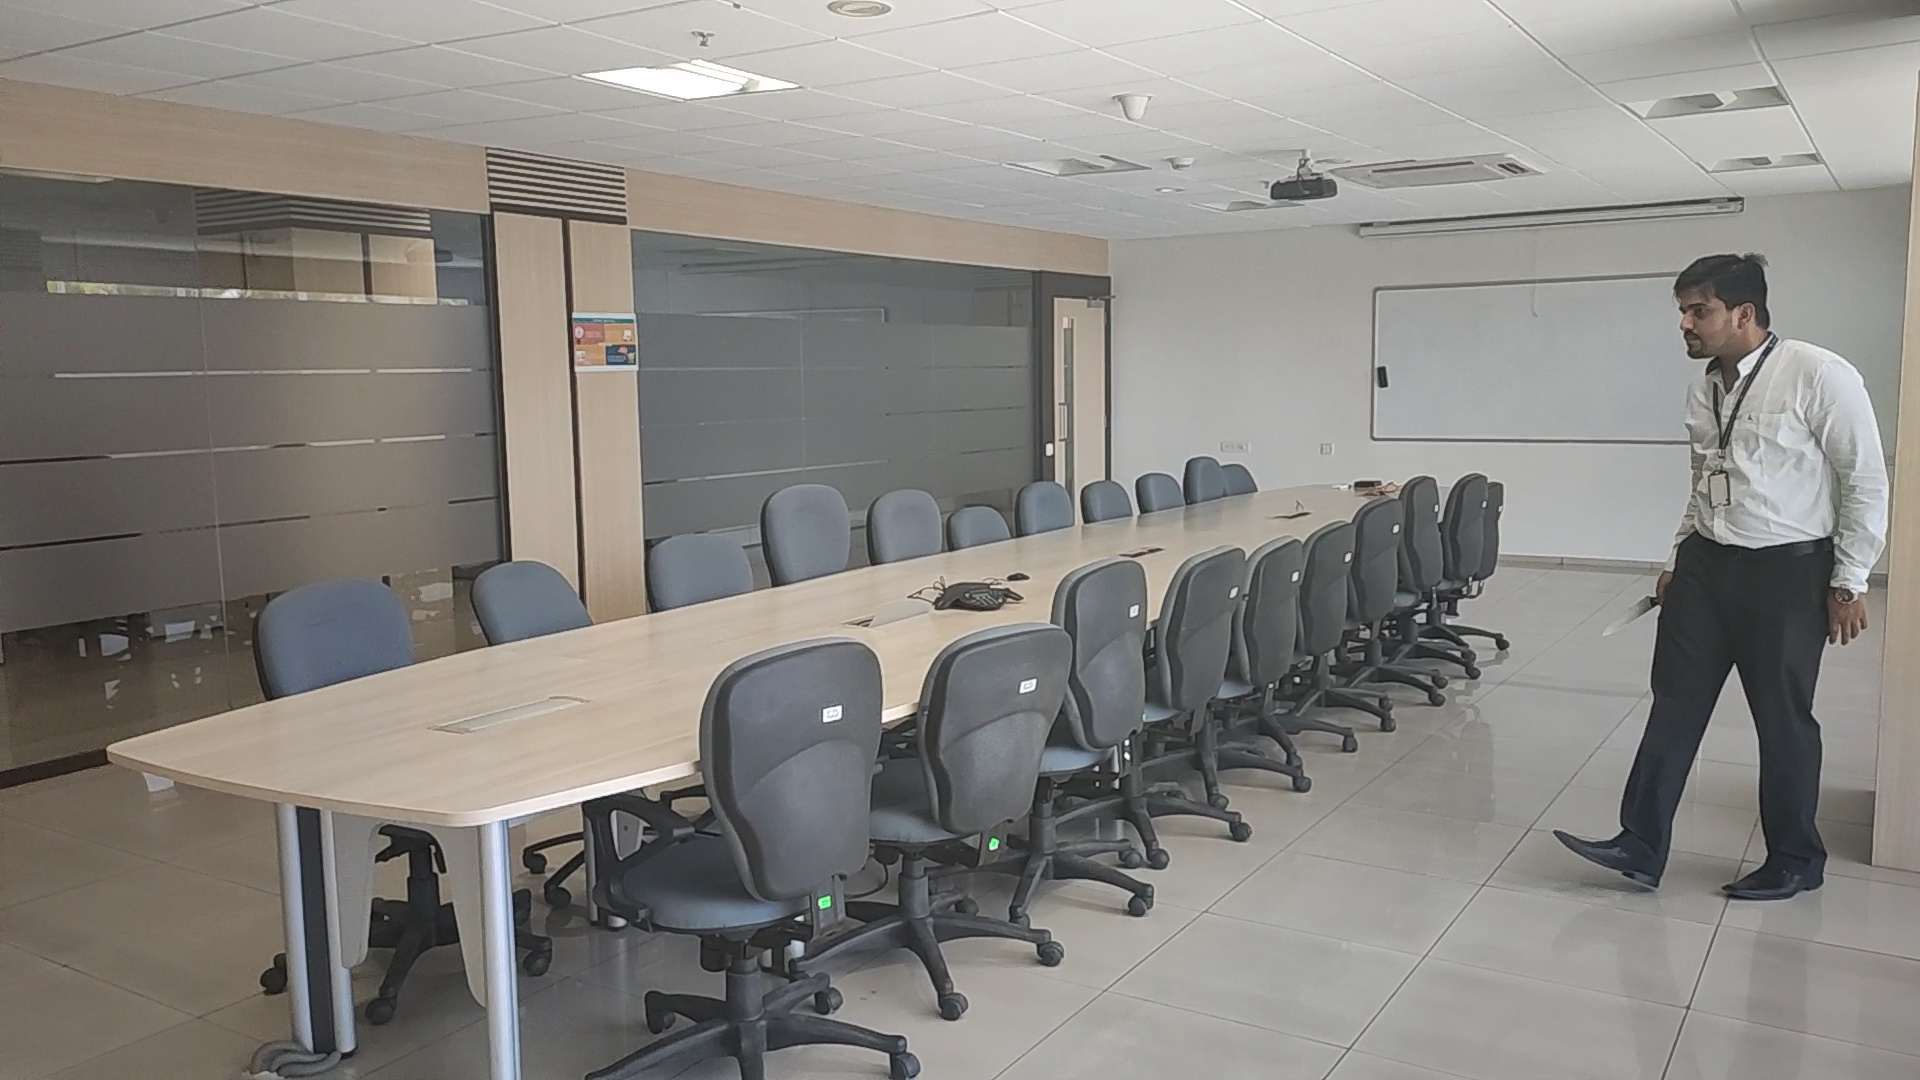knife: (1604, 593, 1656, 636)
